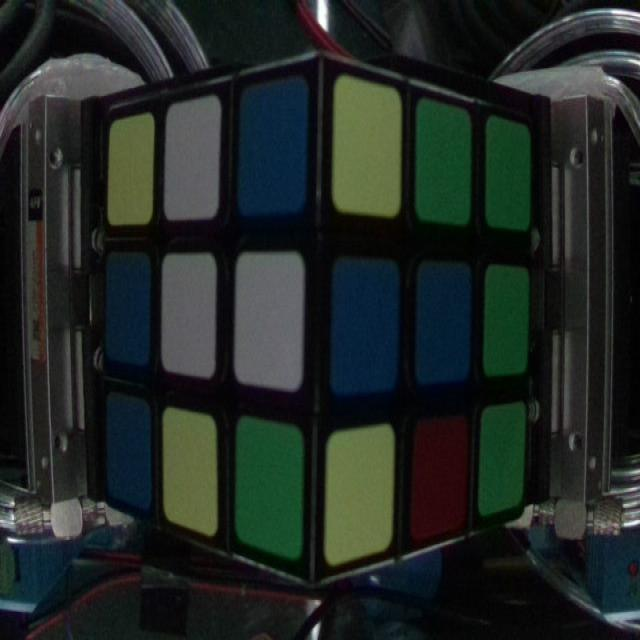b: (240, 93, 304, 212), (337, 266, 397, 391), (423, 263, 469, 376), (106, 255, 146, 356), (108, 401, 145, 500)
g: (234, 422, 300, 546), (417, 103, 471, 224), (490, 122, 532, 230), (487, 265, 526, 375), (482, 412, 524, 507)
r: (417, 430, 465, 542)
w: (237, 256, 299, 387), (166, 106, 220, 218), (164, 257, 214, 371)
y: (337, 83, 402, 212), (327, 436, 388, 555), (164, 411, 216, 529), (109, 121, 151, 222)
